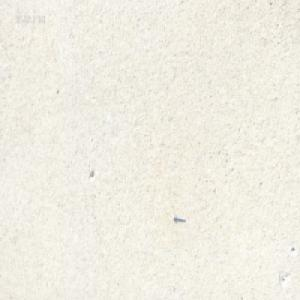Nail: (173, 213, 185, 221)
